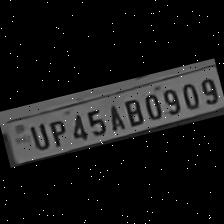0: (138, 88, 163, 121), (176, 77, 200, 109)
4: (64, 108, 89, 142)
5: (80, 103, 108, 136)
9: (194, 72, 220, 106), (156, 82, 181, 116)
A: (101, 98, 126, 131)
B: (117, 94, 145, 128)
P: (44, 114, 68, 148)
U: (23, 118, 52, 152)
